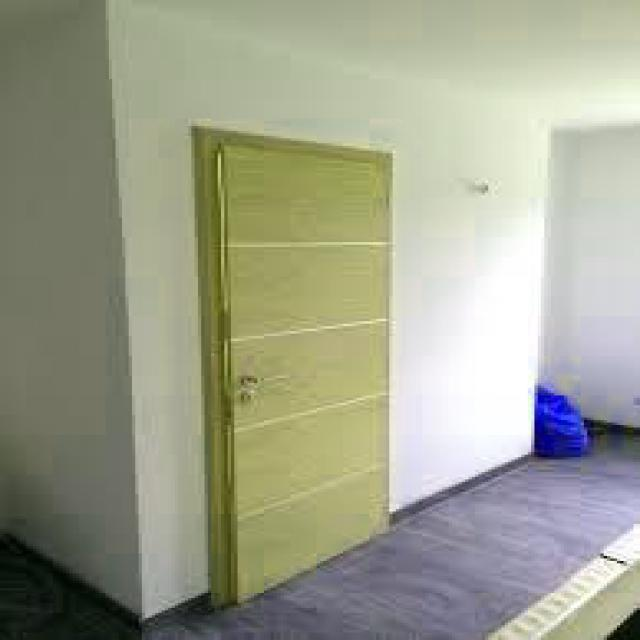door: (169, 105, 407, 619)
